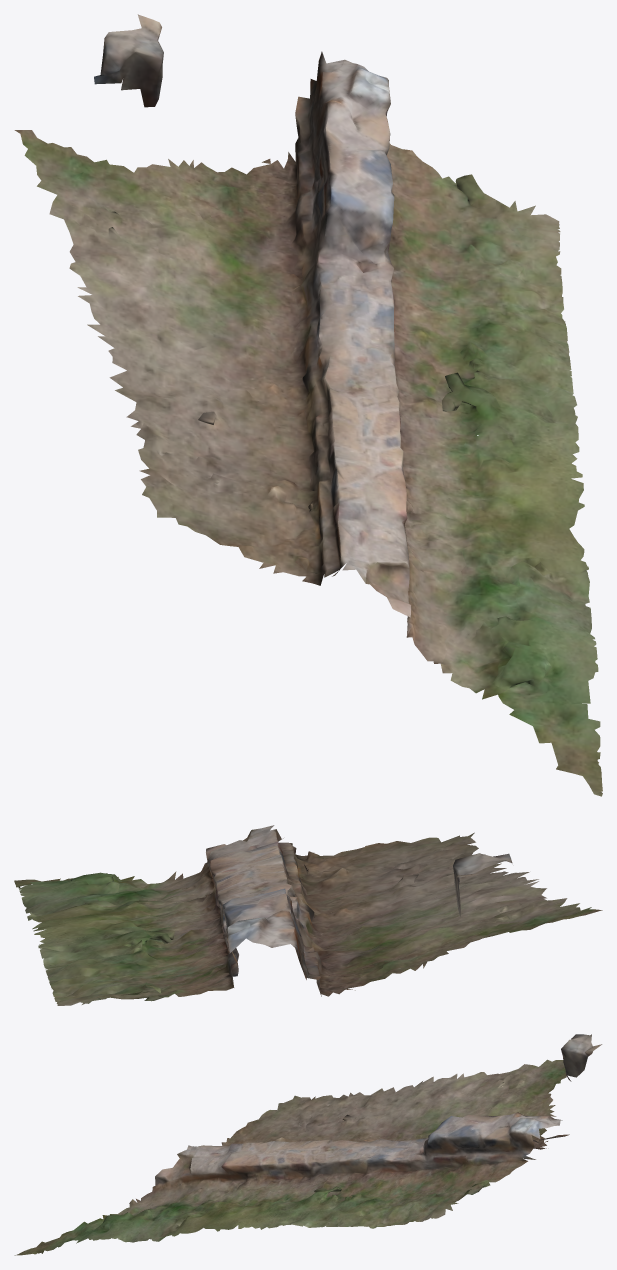
Rendered from cpuzzle500_1.glb.
3 renders of one model, top to bottom at view 1: azimuth 30°, elevation 25°; view 2: azimuth 210°, elevation 25°; view 3: azimuth 270°, elevation 25°, orthographic. The views are drawn at different scales.
Visible parts, largest first — view 1: Mesh_0.001; view 2: Mesh_0.001; view 3: Mesh_0.001.
Part boxes in pixels (x1,y1,x2,y2): Mesh_0.001: [14, 14, 602, 796]; Mesh_0.001: [14, 825, 602, 1005]; Mesh_0.001: [14, 1034, 602, 1255].
Bounding box in the file's own units: 10.71 × 7.44 × 17.58.
Materials: 1 (1 with a texture image).
